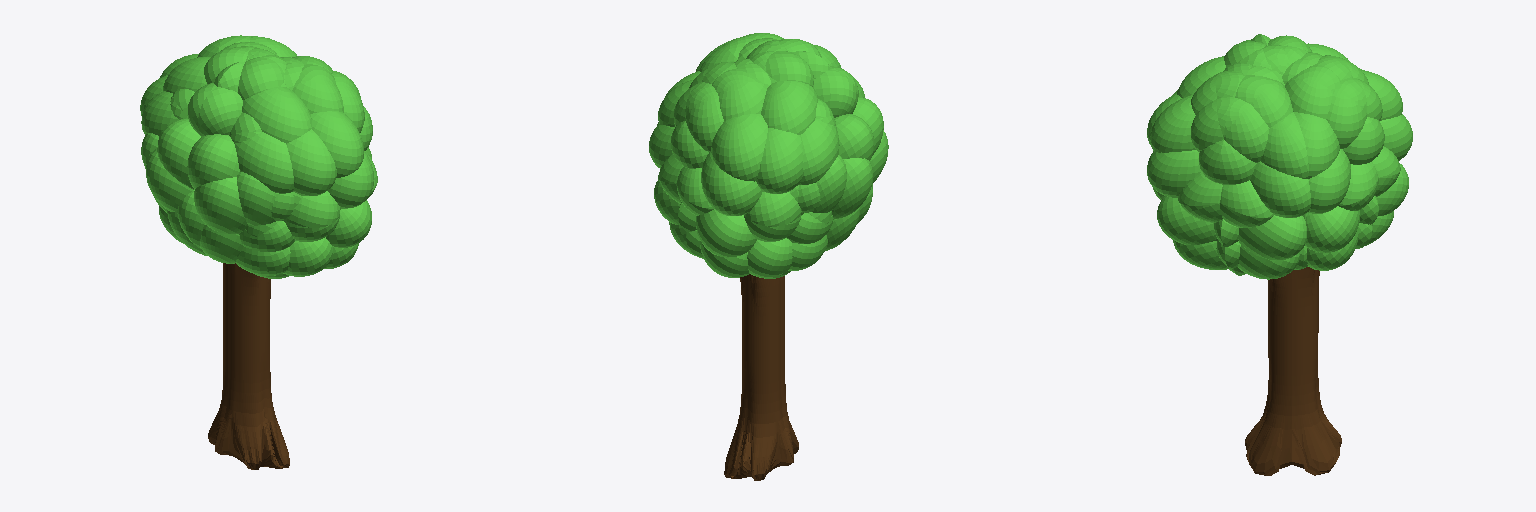
File: tree3.obj
The picture shows the model from 3 angles: view 1: azimuth 30°, elevation 25°; view 2: azimuth 150°, elevation 25°; view 3: azimuth 270°, elevation 25°; orthographic projection.
Parts seen in each view (by area): view 1: tree_crown022, tree_trunk022; view 2: tree_crown022, tree_trunk022; view 3: tree_crown022, tree_trunk022.
Boxes of the visible parts, <box> form: tree_crown022: <box>140,35,377,278</box>; tree_trunk022: <box>208,263,289,469</box>; tree_crown022: <box>649,33,888,278</box>; tree_trunk022: <box>724,274,798,480</box>; tree_crown022: <box>1147,34,1412,279</box>; tree_trunk022: <box>1245,267,1341,475</box>.
Bounding box in the file's own units: 123 × 235 × 136.